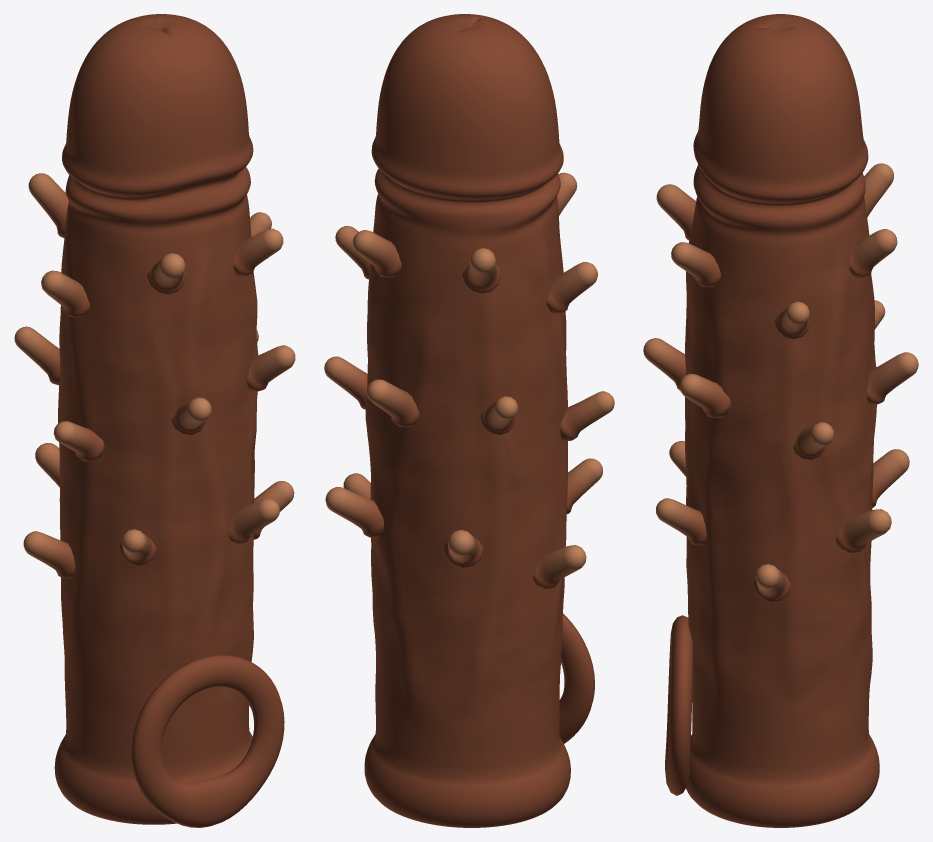
File: gudgudi.glb
3 views of the same model, side by side, from view 1: azimuth 30°, elevation 25°; view 2: azimuth 150°, elevation 25°; view 3: azimuth 270°, elevation 25° (orthographic).
Parts seen in each view (by area): view 1: gudgudi; view 2: gudgudi; view 3: gudgudi.
Boxes of the visible parts, x1,y1,x2,y2 form: gudgudi: (14,14,295,827); gudgudi: (324,14,614,827); gudgudi: (643,14,918,827).
Size of the model in its own units: 0.0527 by 0.1523 by 0.0497.
Materials: 3 (1 with a texture image).
